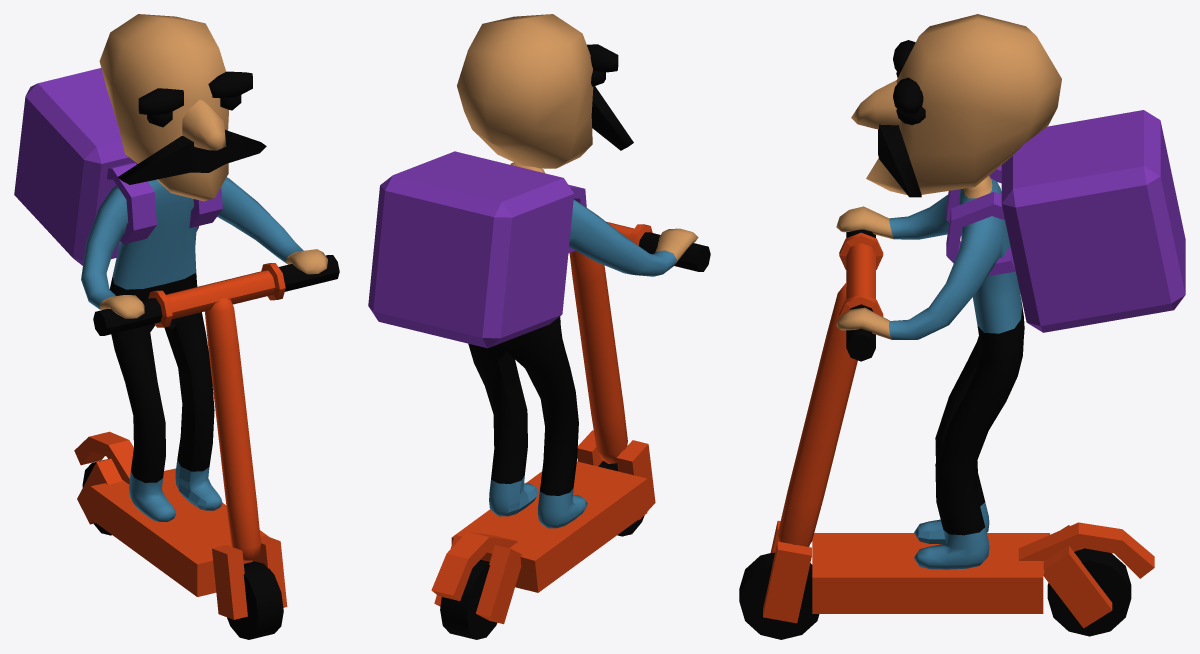
Rendered from Player Character.fbx.
The picture shows the model from 3 angles, left to right: view 1: azimuth 30°, elevation 25°; view 2: azimuth 150°, elevation 25°; view 3: azimuth 270°, elevation 25°; orthographic projection. The views are drawn at different scales.
Parts seen in each view (by area): view 1: Body, Cube.010, Cube.008, Cube, Cube.004, Cylinder, Cube.011, Cube.005, Cube.012, Cube.002, Sphere.001, Cube.007 (+3 smaller); view 2: Cube.010, Body, Cube.008, Cube, Cube.004, Cube.007, Cube.006, Cube.003, Cube.005, Cylinder, Cube.011, Sphere.001; view 3: Cube.010, Body, Cube.008, Cube, Cube.004, Cylinder, Cube.007, Cube.003, Cube.002, Cube.006, Cube.005, Cube.012 (+3 smaller).
Boxes of the visible parts, x1=… form: Body: x1=81, y1=177, x2=327, y2=521; Cube.010: x1=14, y1=68, x2=198, y2=265; Cube.008: x1=99, y1=14, x2=228, y2=201; Cube: x1=90, y1=468, x2=268, y2=596; Cube.004: x1=204, y1=298, x2=260, y2=561; Cylinder: x1=93, y1=255, x2=339, y2=335; Cube.011: x1=117, y1=130, x2=266, y2=184; Cube.005: x1=212, y1=535, x2=287, y2=619; Cube.012: x1=107, y1=162, x2=222, y2=244; Cube.002: x1=227, y1=561, x2=283, y2=639; Sphere.001: x1=138, y1=71, x2=252, y2=115; Cube.007: x1=74, y1=431, x2=133, y2=484; Cube.010: x1=368, y1=151, x2=574, y2=348; Body: x1=468, y1=162, x2=698, y2=528; Cube.008: x1=457, y1=14, x2=593, y2=168; Cube: x1=451, y1=461, x2=647, y2=592; Cube.004: x1=569, y1=250, x2=627, y2=463; Cube.007: x1=431, y1=532, x2=517, y2=600; Cube.006: x1=434, y1=535, x2=522, y2=624; Cube.003: x1=440, y1=559, x2=497, y2=639; Cube.005: x1=577, y1=430, x2=655, y2=520; Cylinder: x1=607, y1=222, x2=710, y2=271; Cube.011: x1=591, y1=86, x2=633, y2=150; Sphere.001: x1=587, y1=44, x2=618, y2=72; Cube.010: x1=1001, y1=110, x2=1185, y2=332; Body: x1=836, y1=176, x2=1024, y2=569; Cube.008: x1=866, y1=14, x2=1061, y2=195; Cube: x1=812, y1=533, x2=1049, y2=613; Cube.004: x1=777, y1=282, x2=857, y2=546; Cylinder: x1=839, y1=229, x2=883, y2=361; Cube.007: x1=1018, y1=522, x2=1154, y2=578; Cube.003: x1=1047, y1=548, x2=1131, y2=636; Cube.002: x1=739, y1=552, x2=819, y2=639; Cube.006: x1=1043, y1=525, x2=1112, y2=628; Cube.005: x1=763, y1=520, x2=811, y2=623; Cube.012: x1=946, y1=165, x2=1015, y2=275.
Bounding box in the file's own units: 82.46 × 186 × 123.
